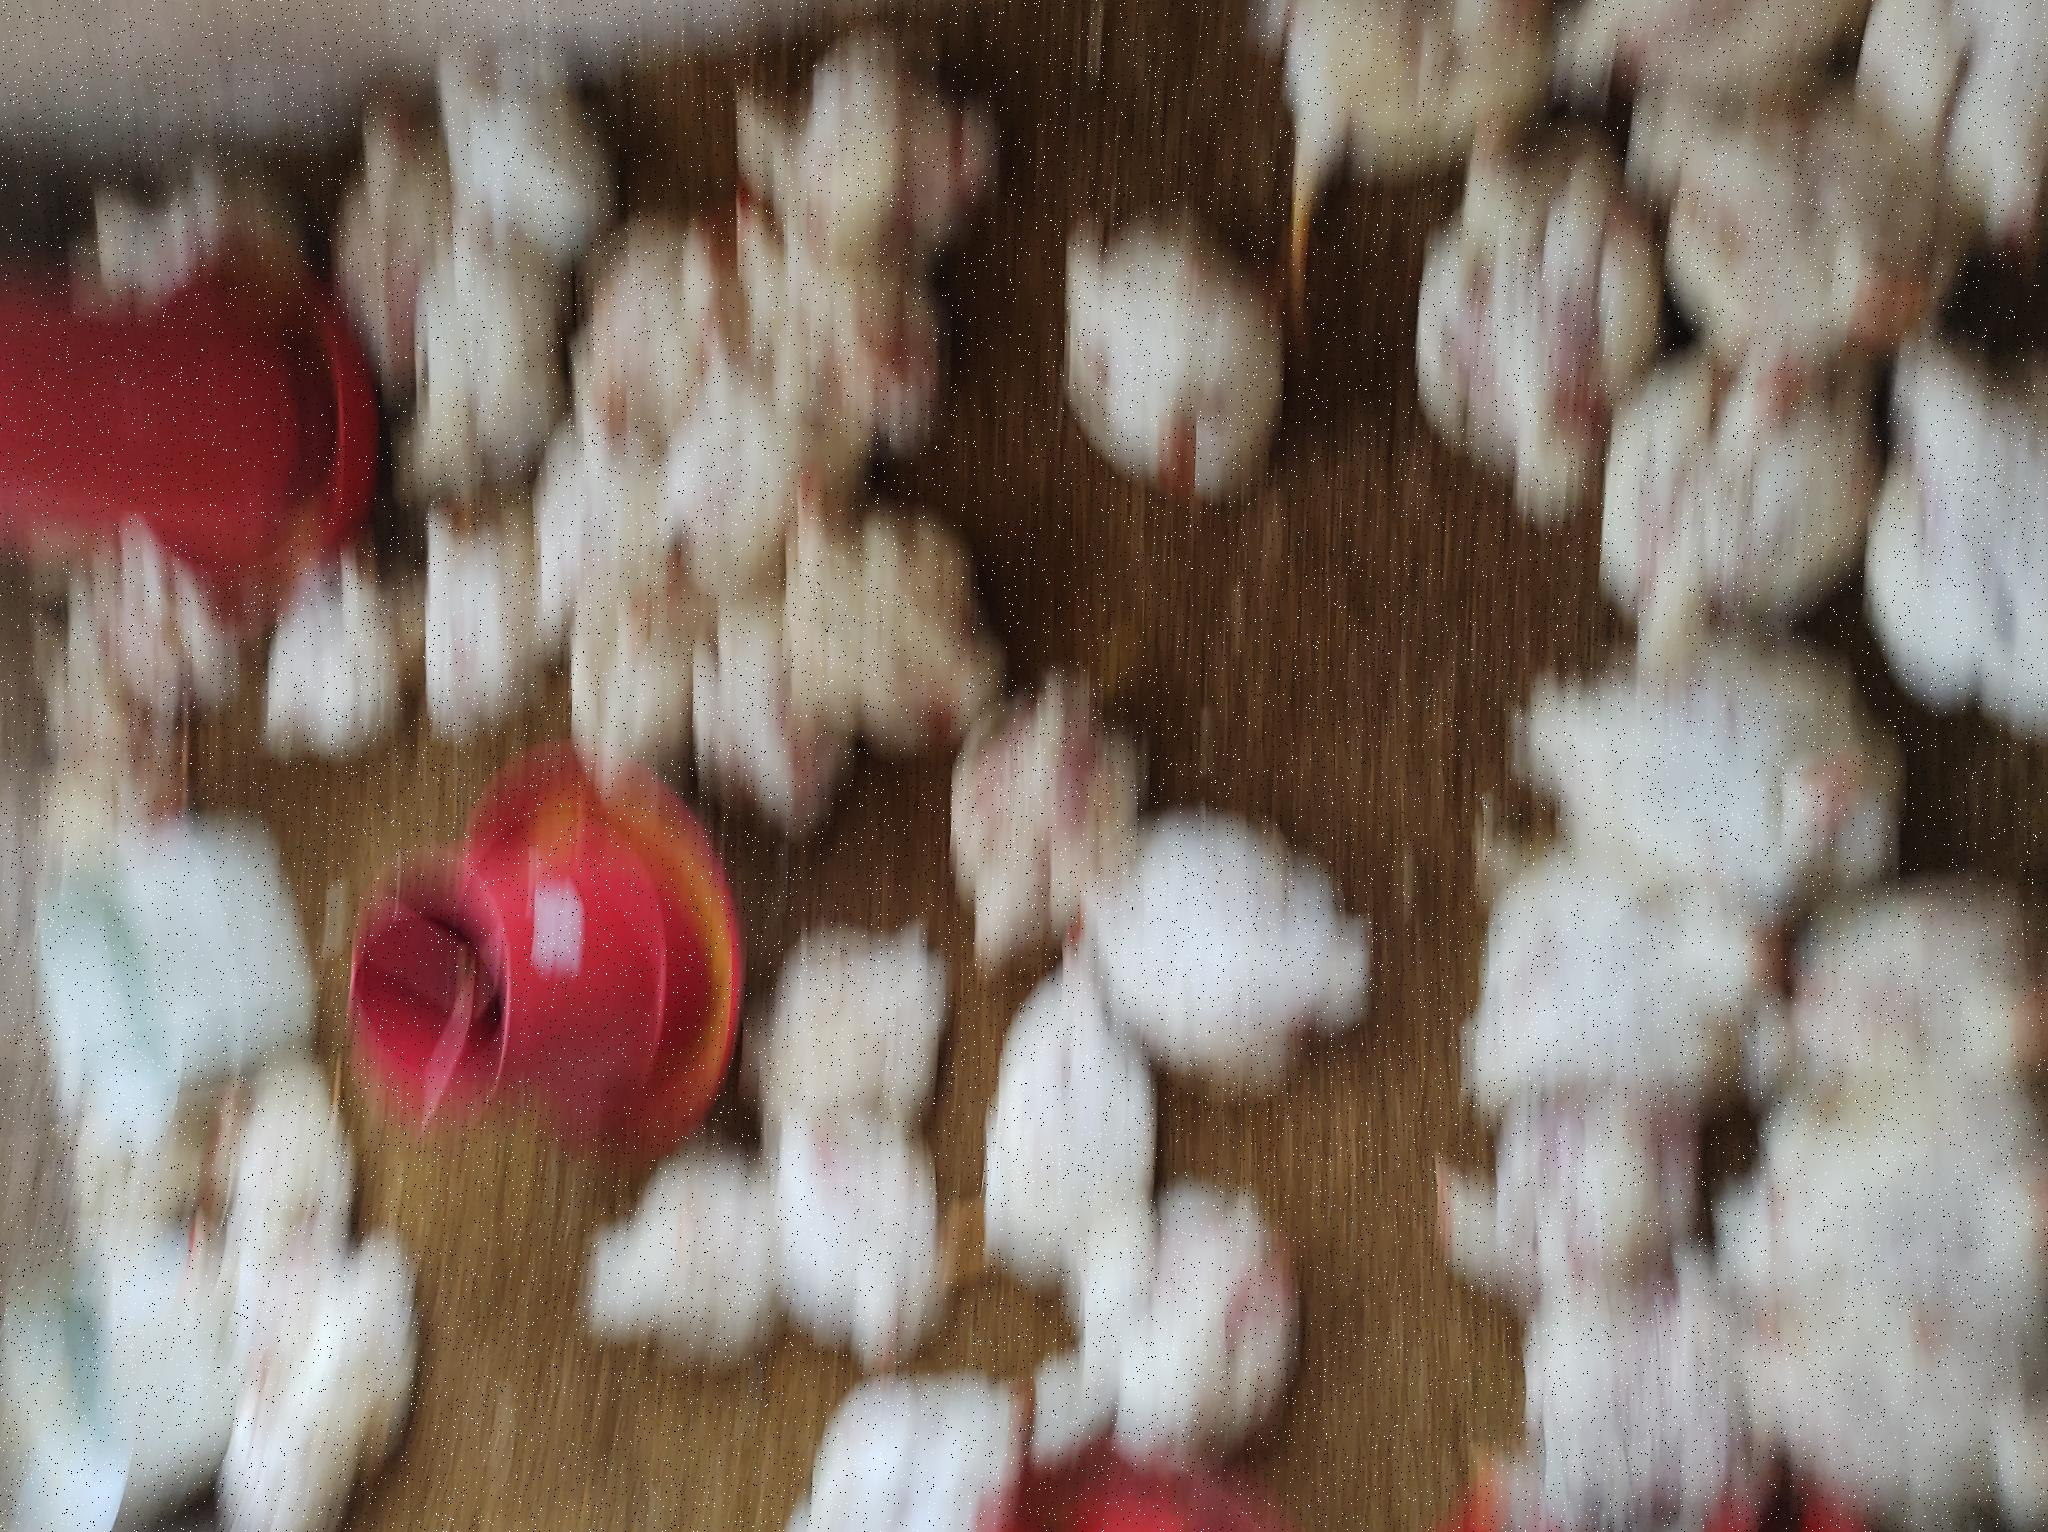Pollos: (439, 1088, 758, 1384), (53, 1007, 349, 1321), (224, 945, 578, 1168), (151, 175, 524, 386), (570, 925, 888, 1146), (1033, 1060, 1329, 1281), (775, 777, 1026, 996), (1059, 1415, 1430, 1532), (203, 552, 397, 768), (819, 401, 1096, 542), (785, 261, 989, 404), (217, 1418, 450, 1532), (1276, 327, 1470, 438), (450, 1435, 669, 1532), (1219, 719, 1363, 811)
